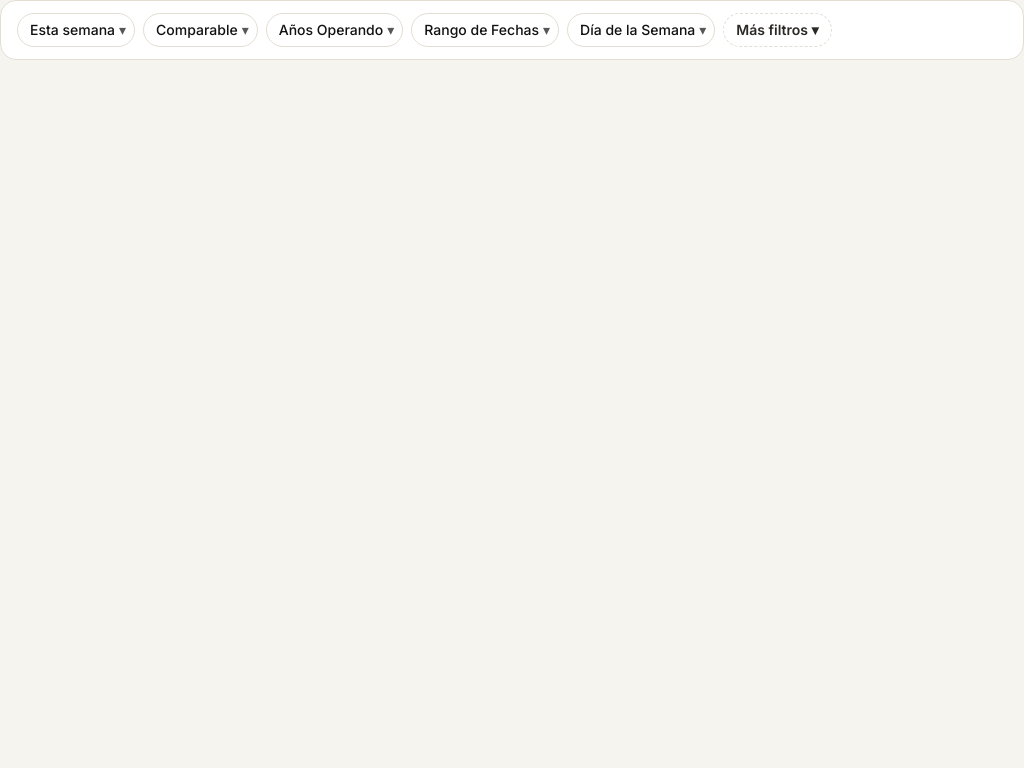
Test: <FiltrosBi> en píldoras › más de 1,100 días: mensaje y no aplica
This screenshot has width=1024, height=768.
Click the button "Rango de Fechas ▾": (485, 30) [412,14,558,46]
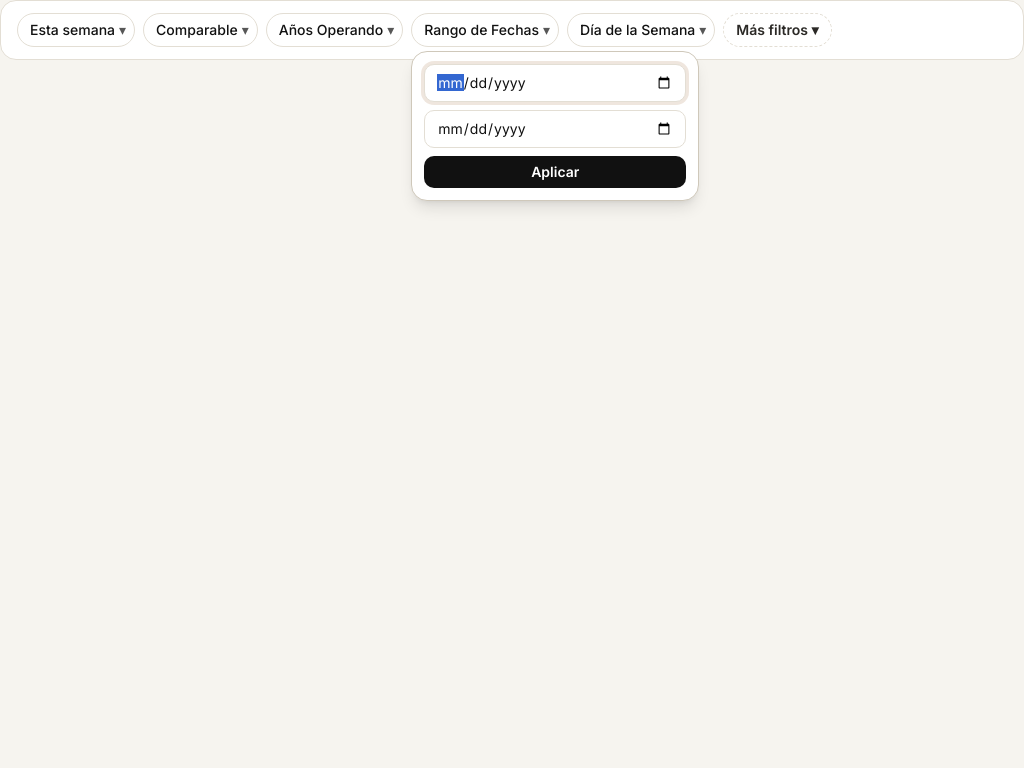
In the date field named "Desde": (555, 83) [424,64,686,102], type "2023-01-01"
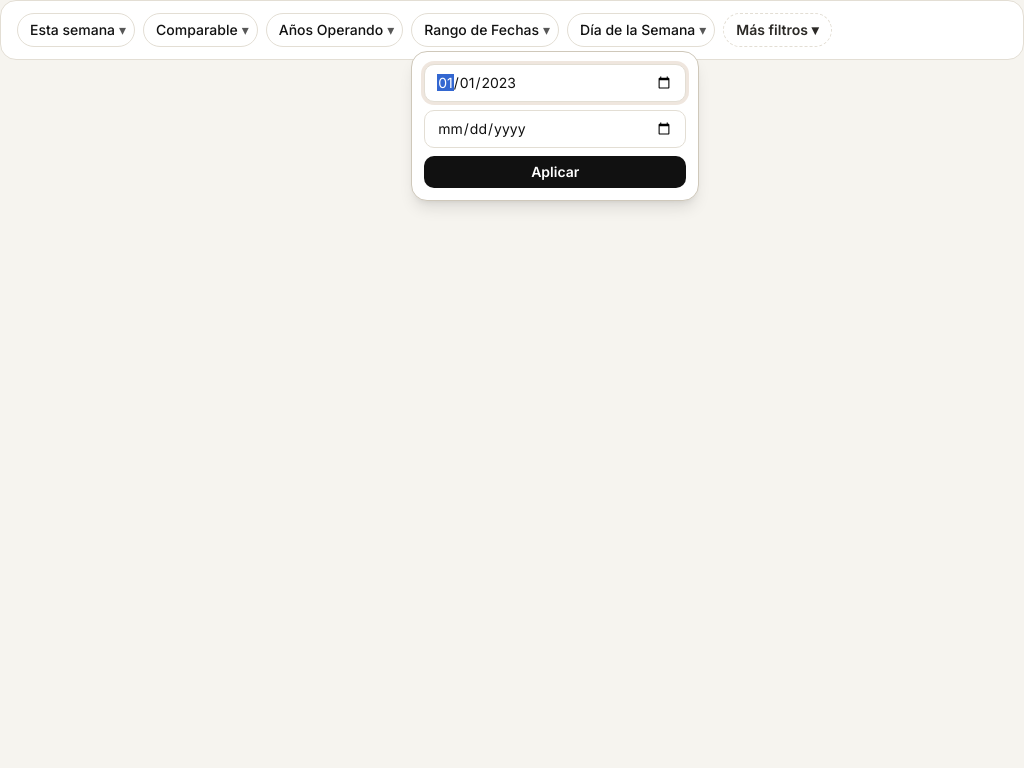
In the date field named "Hasta": (555, 129) [424,110,686,148], type "2026-10-01"
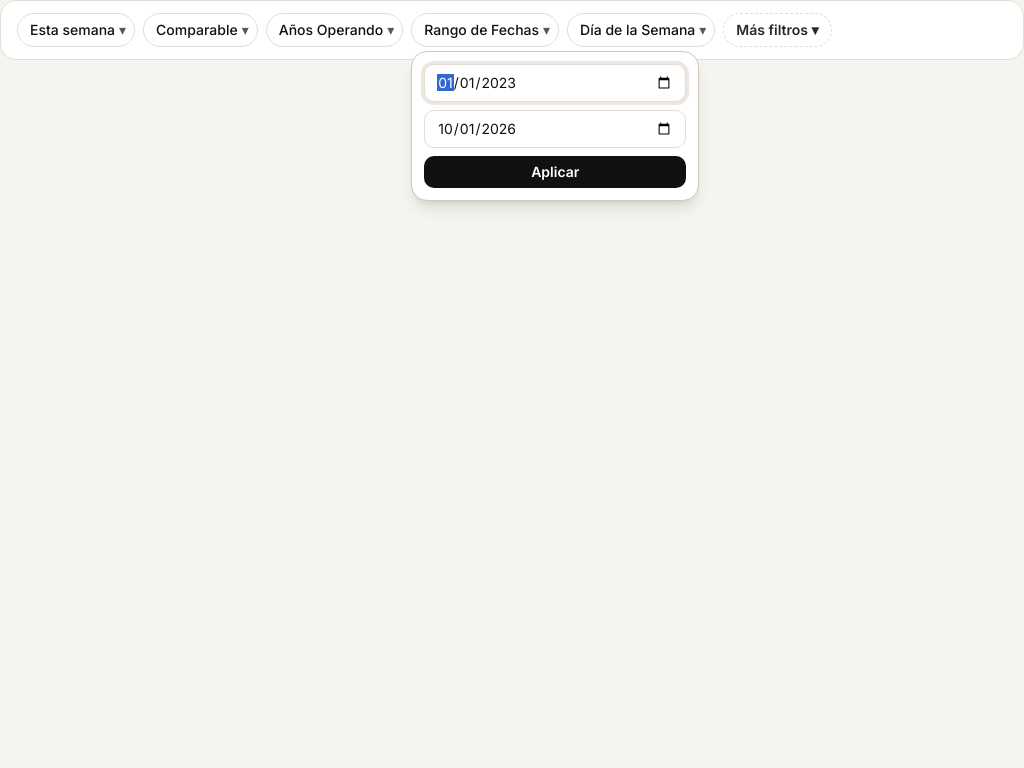
Click the button "Aplicar": (555, 172) [424,156,686,188]
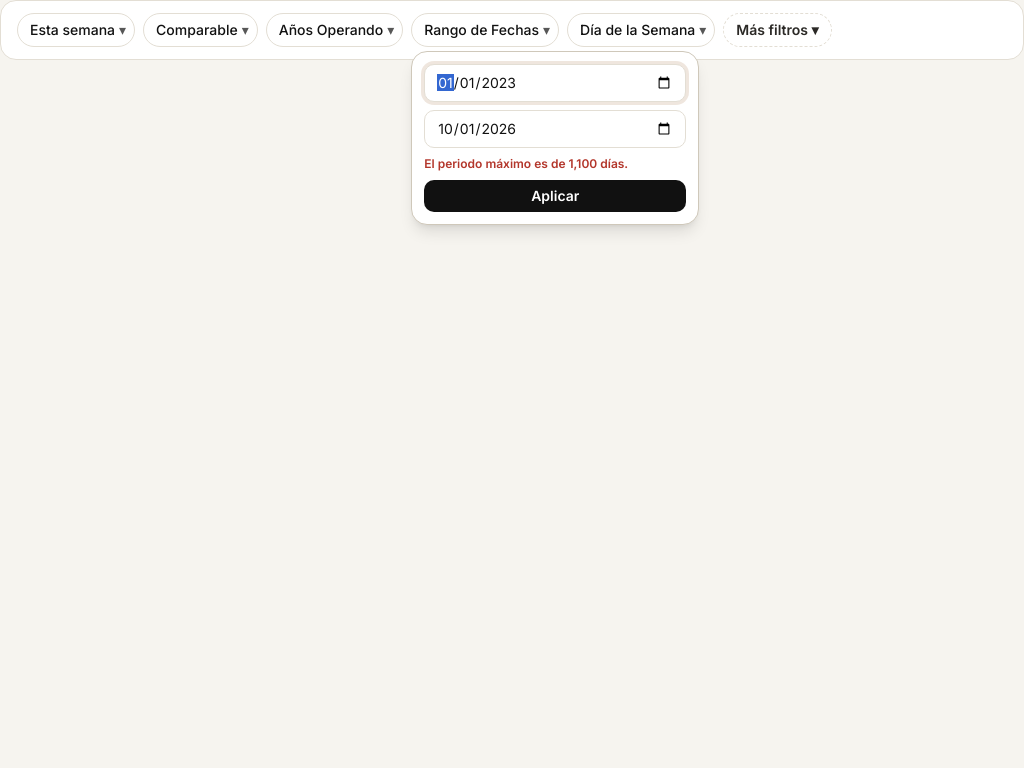
Expected: the message shows "1,100 días", [424,156,628,171]
